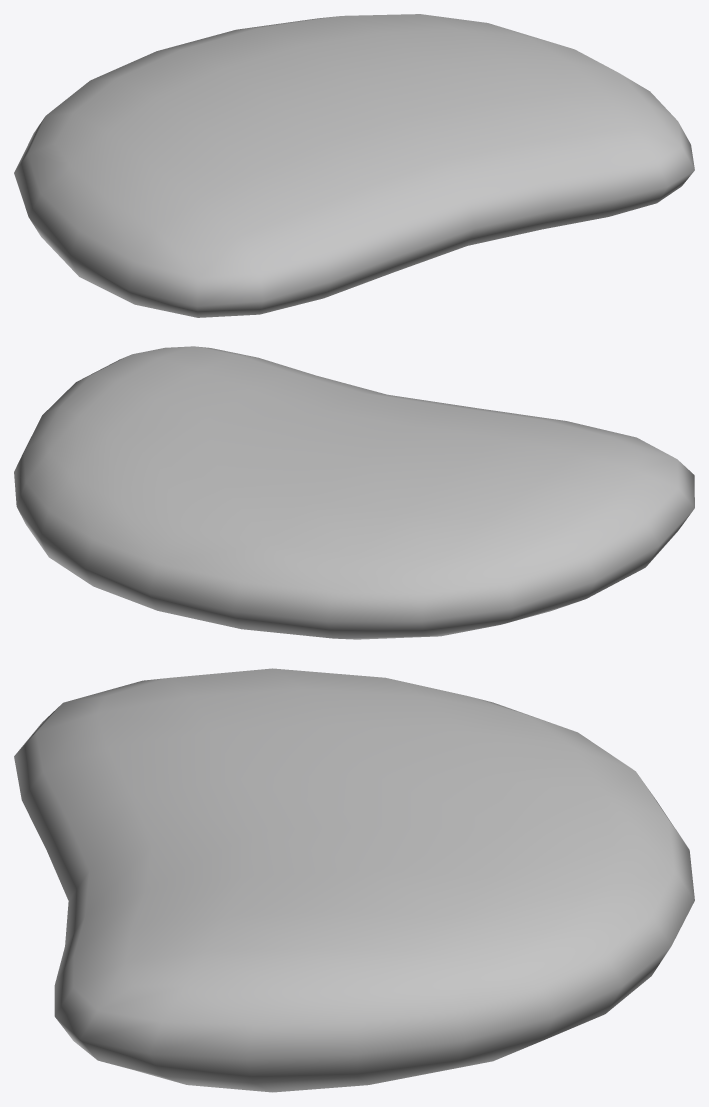
File: Farm_14_Stone_3.glb
The picture shows the model from 3 angles, top to bottom: view 1: azimuth 30°, elevation 25°; view 2: azimuth 150°, elevation 25°; view 3: azimuth 270°, elevation 25°; orthographic projection. The views are drawn at different scales.
Parts seen in each view (by area): view 1: Farm_14_Stone_3; view 2: Farm_14_Stone_3; view 3: Farm_14_Stone_3.
Part boxes in pixels (box(x1,y1,x2,y2)): Farm_14_Stone_3: box(14, 14, 694, 317); Farm_14_Stone_3: box(14, 346, 694, 639); Farm_14_Stone_3: box(14, 668, 694, 1092).
Size of the model in its own units: 1.27 by 0.2443 by 0.9987.
Materials: 1 (1 with a texture image).
